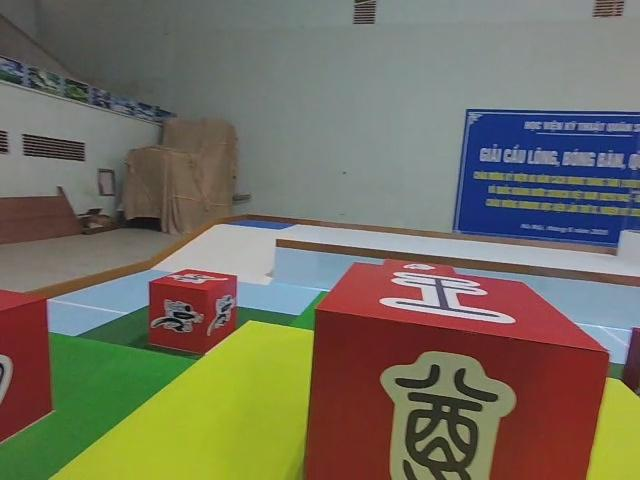R1: (142, 268, 240, 362)
R2 Fake: (295, 260, 612, 480)
